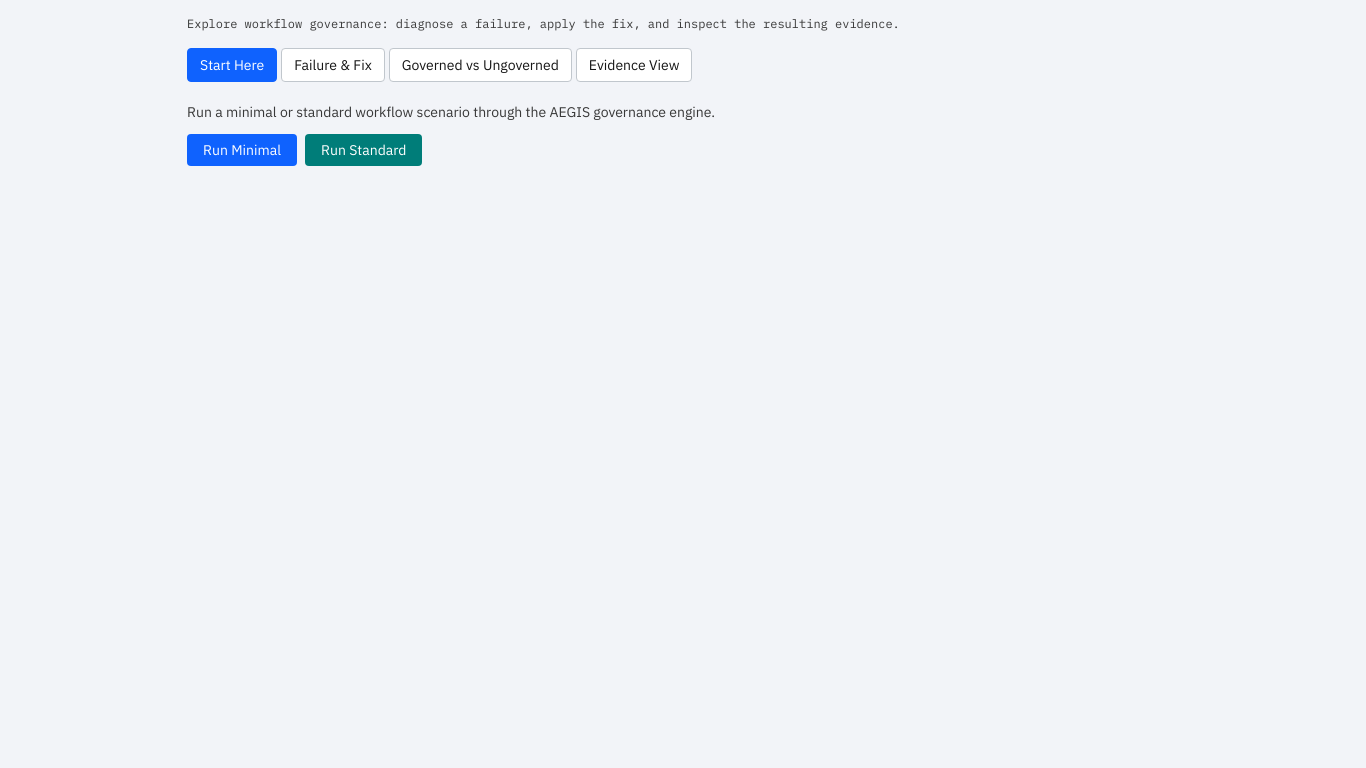
Scenario: Lab11WorkflowLab › runs the failure, diagnosis, and fix flow against the workflow API contract
The width and height of the screenshot is (1366, 768).
Click the button "Failure & Fix" at (333, 65), box [281, 48, 385, 82]
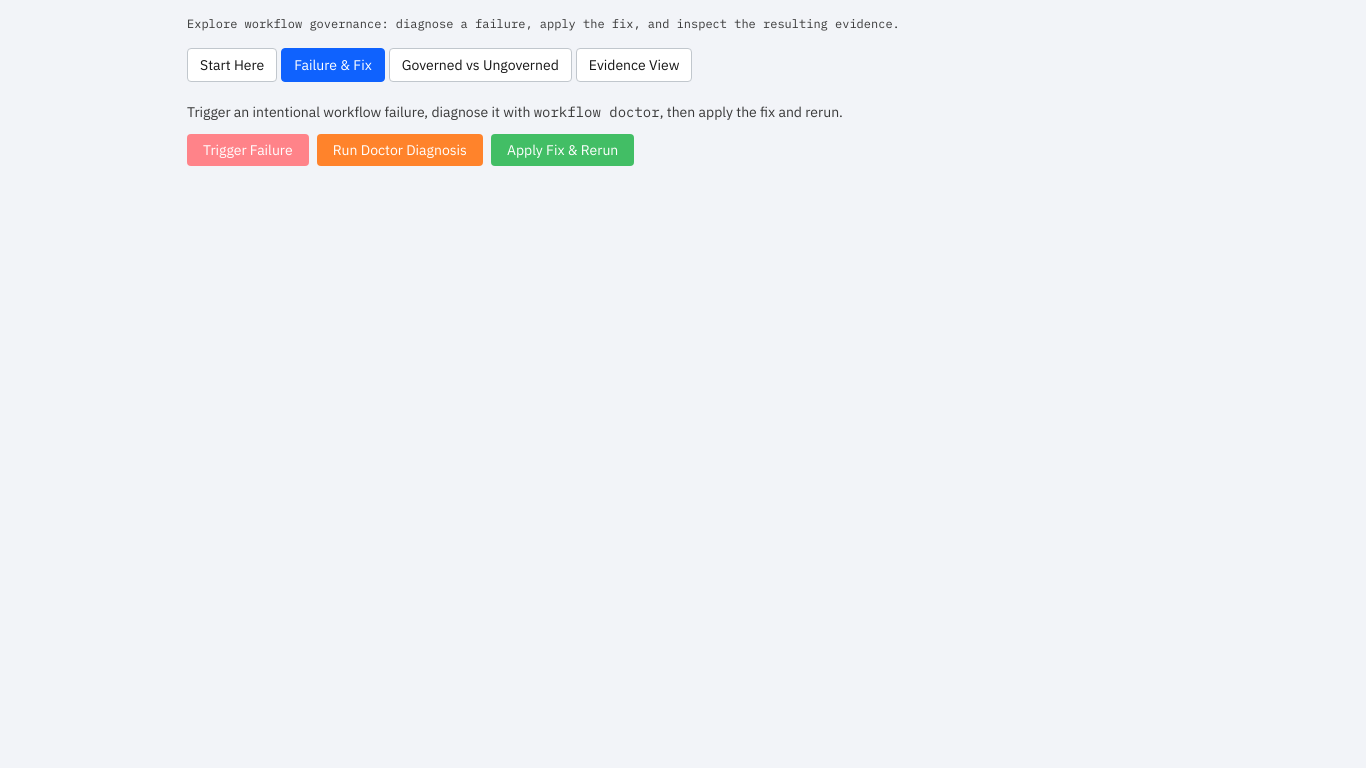
Click the button "Trigger Failure" at (248, 150), box [187, 134, 309, 166]
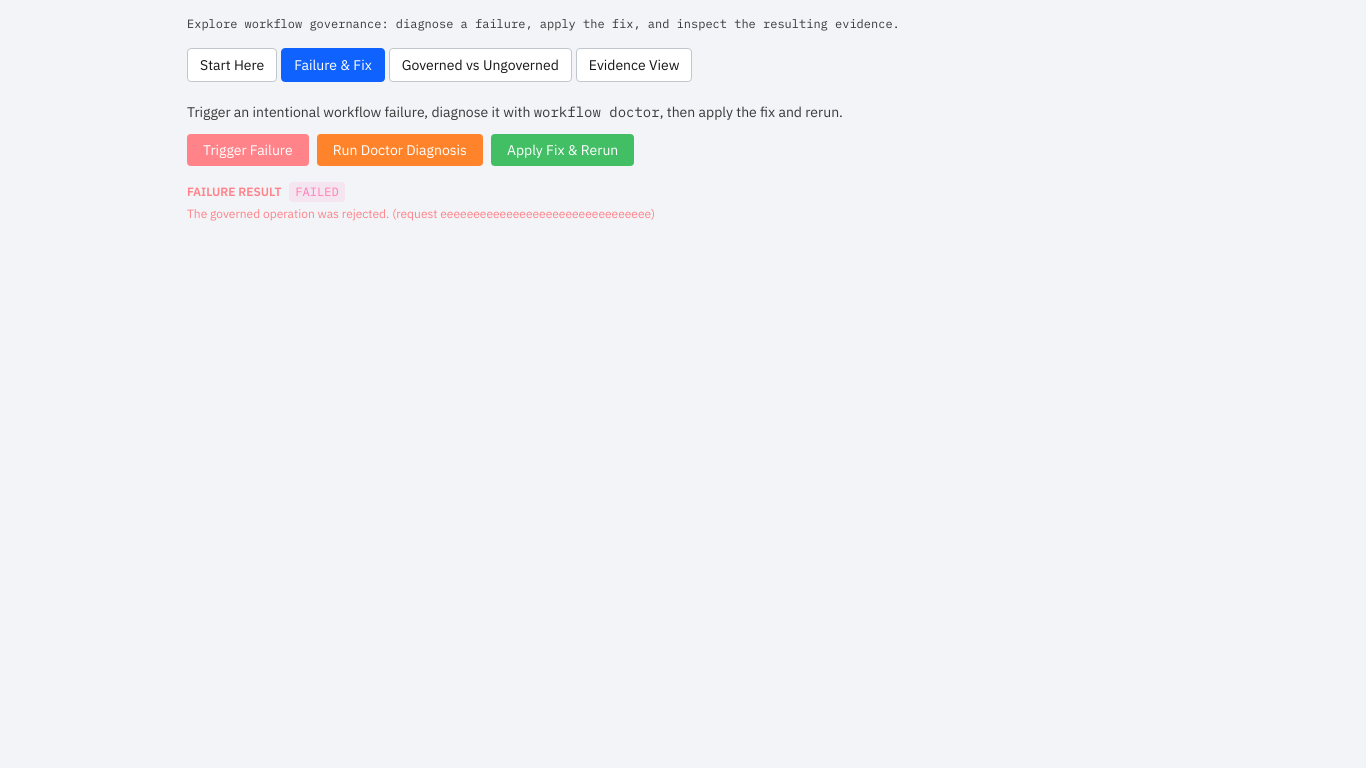
Expected: the text "Failure result" is shown, [187, 184, 281, 200]
Click the button "Run Doctor Diagnosis" at (400, 150), box [317, 134, 483, 166]
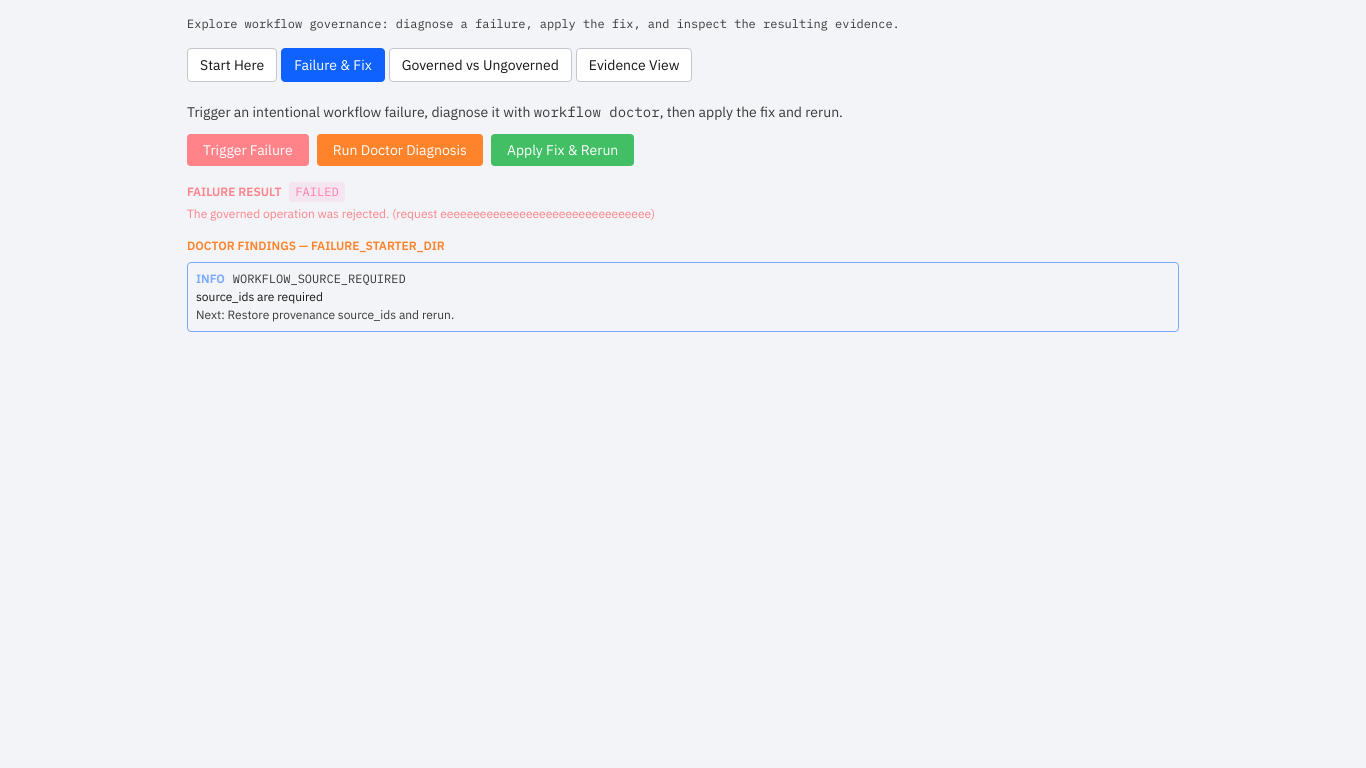
Expected: the text "WORKFLOW_SOURCE_REQUIRED" is shown, [233, 271, 406, 287]
Click the button "Apply Fix & Rerun" at (563, 150), box [491, 134, 634, 166]
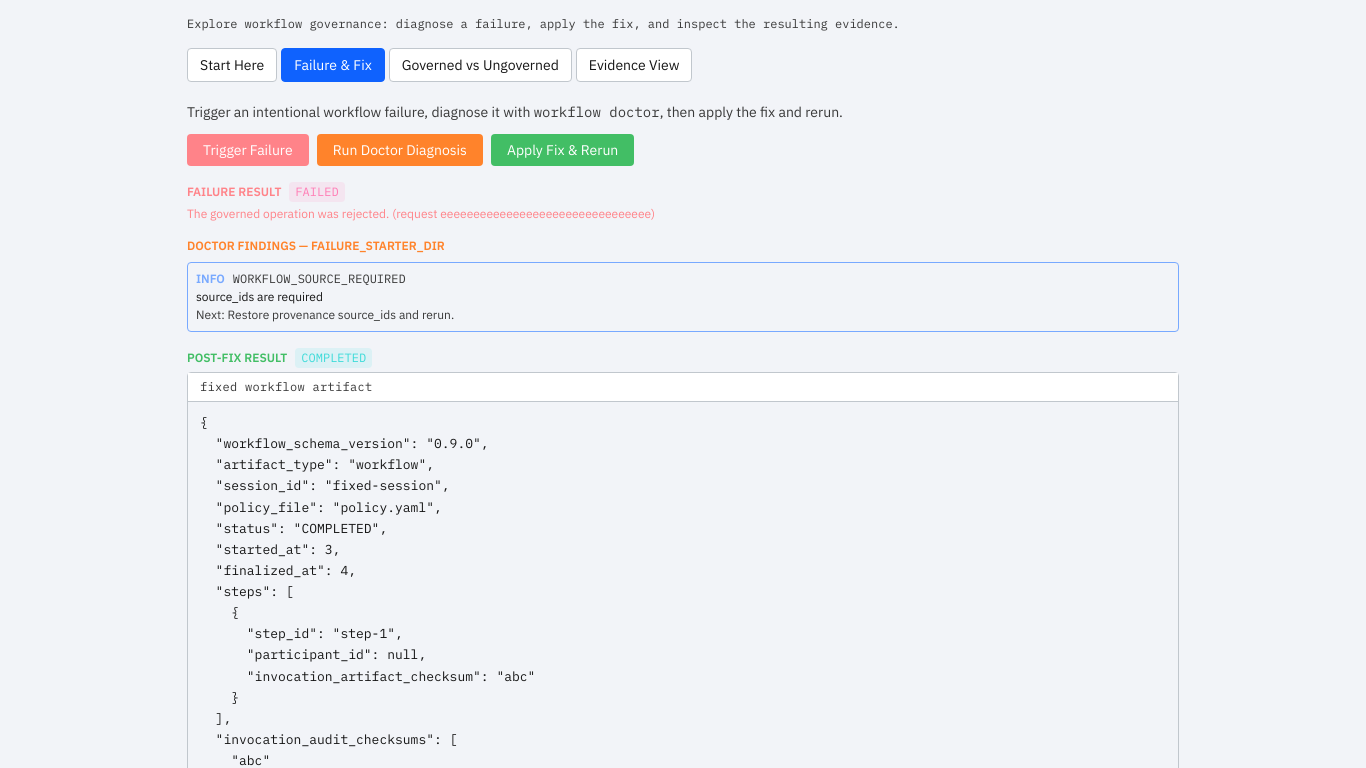
Expected: the text "Post-fix result" is shown, [187, 350, 287, 366]
